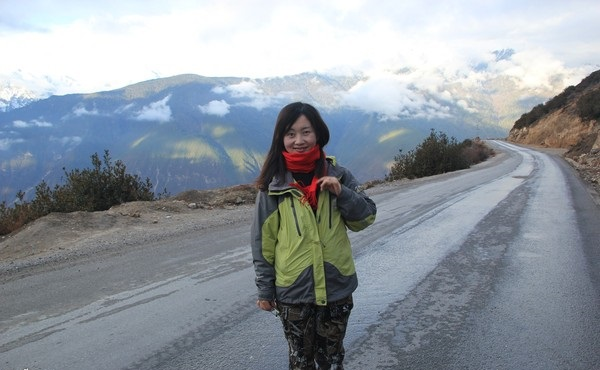face: (284, 114, 315, 157)
